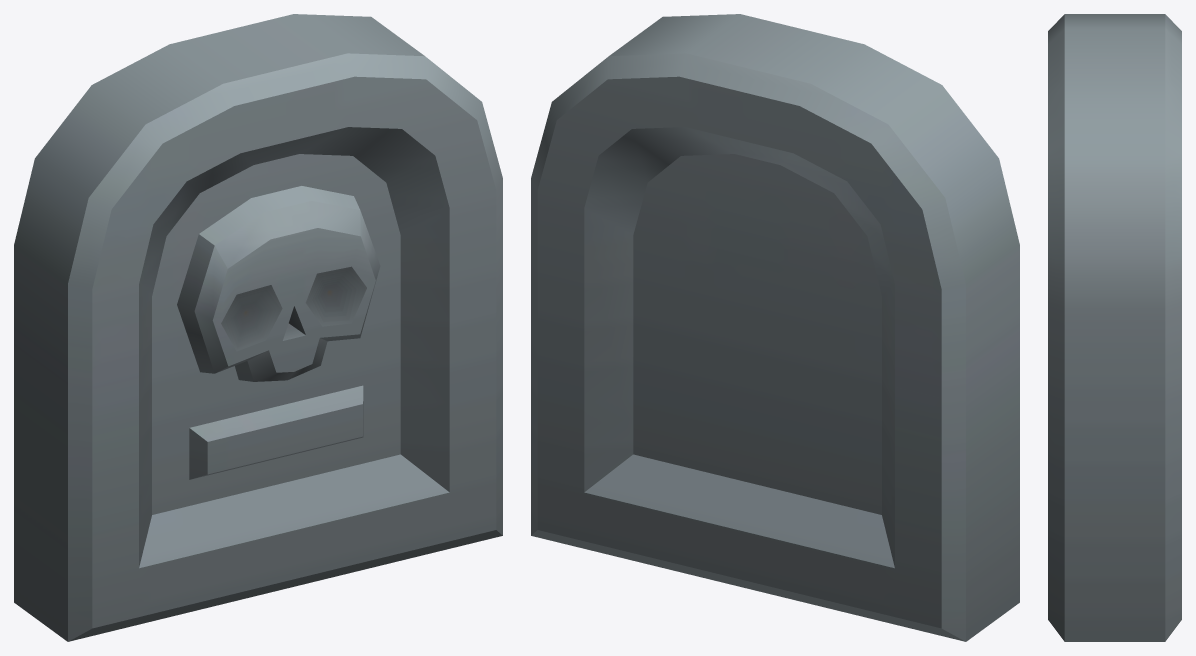
File: gravestone.glb
The picture shows the model from 3 angles, left to right: view 1: azimuth 30°, elevation 25°; view 2: azimuth 150°, elevation 25°; view 3: azimuth 270°, elevation 25°; orthographic projection. The views are drawn at different scales.
Visible parts, largest first — view 1: gravestone; view 2: gravestone; view 3: gravestone.
Boxes of the visible parts, x1,y1,x2,y2 form: gravestone: (14,14,502,641); gravestone: (531,14,1019,641); gravestone: (1048,14,1181,641).
Size of the model in its own units: 1.4 by 1.6 by 0.4001.
Materials: 1 (1 with a texture image).
